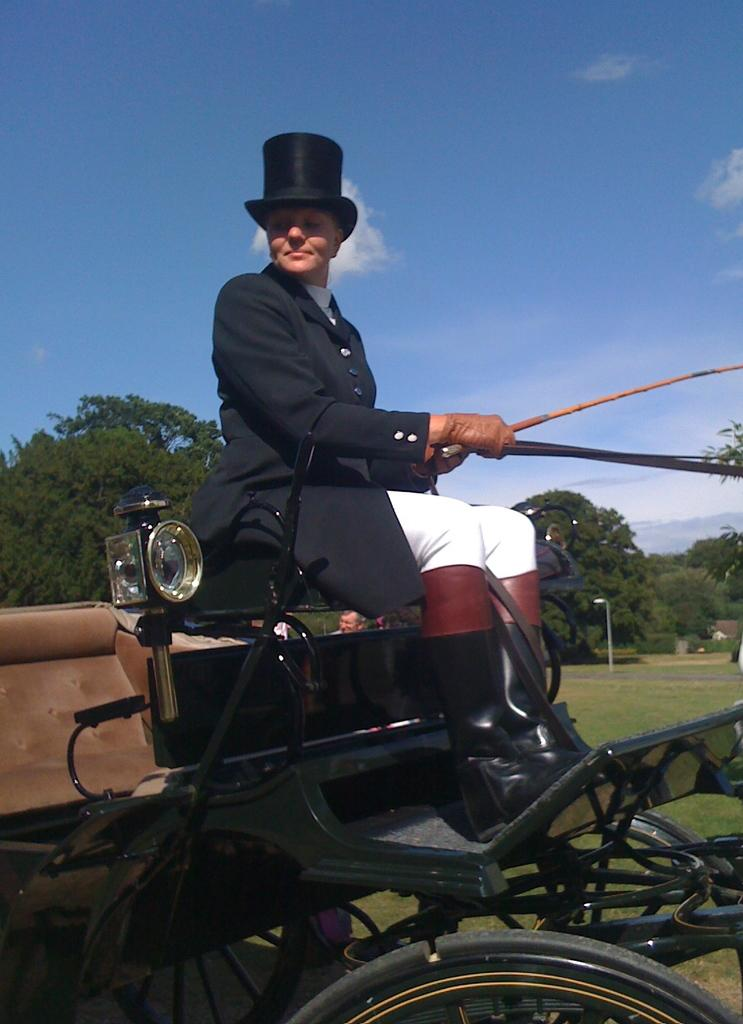Hat: (245, 129, 363, 227)
